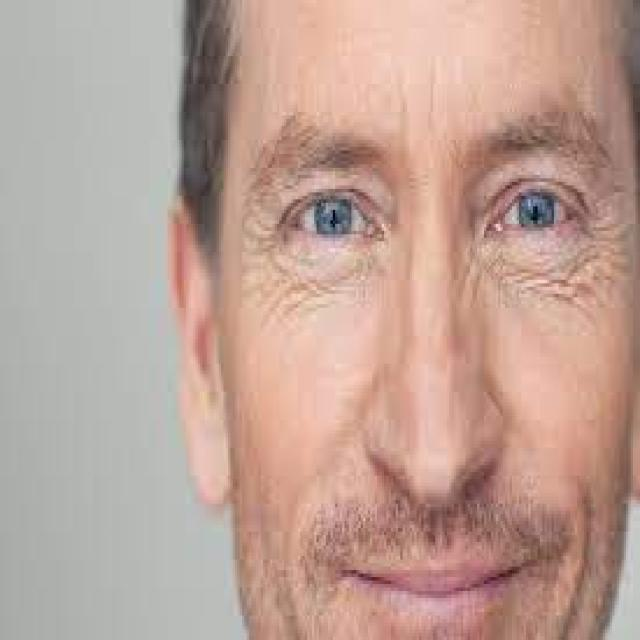Wrinkles: (482, 213, 632, 323), (239, 216, 357, 322)
